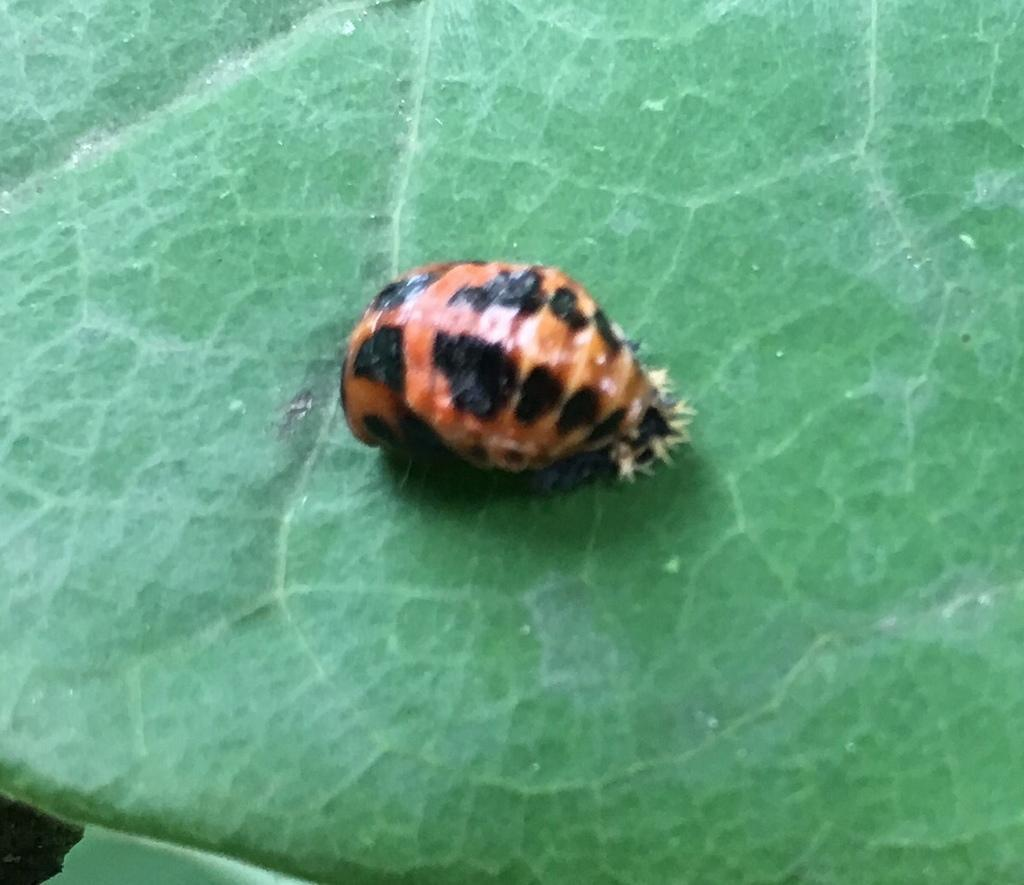ladybug: (339, 254, 701, 499)
